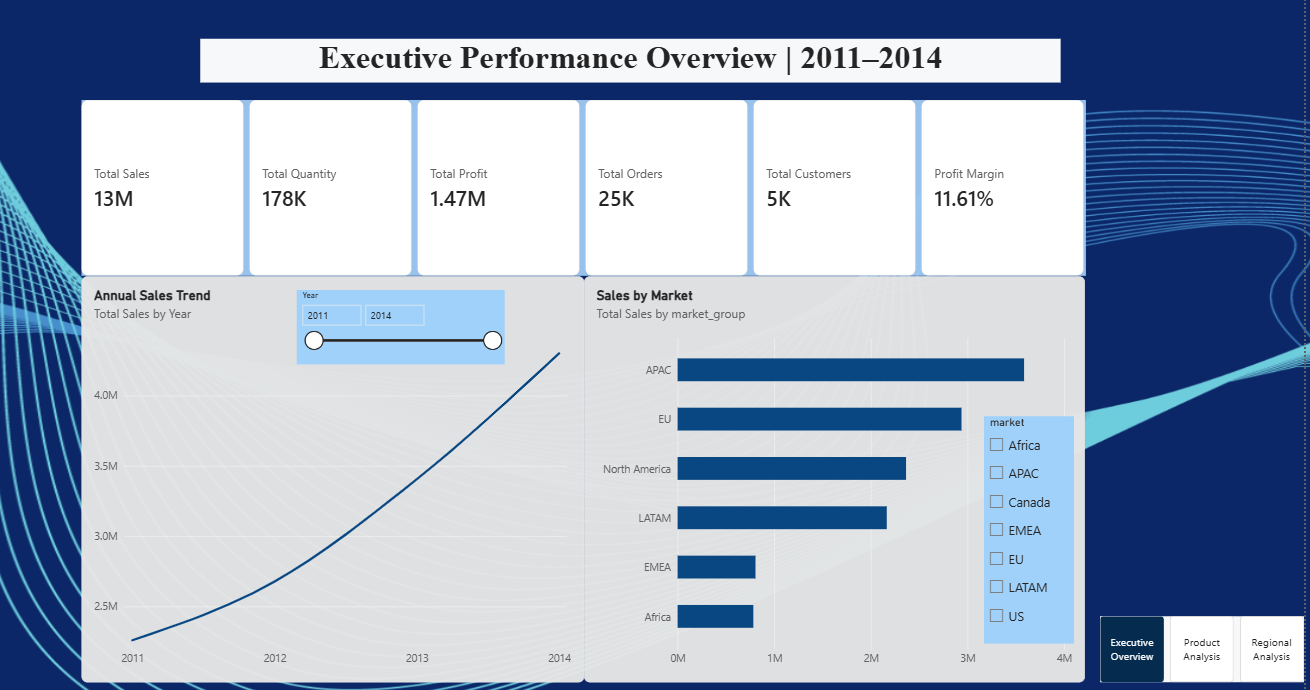

This screenshot's page, from the dashboard's own definition file:
{"tool":"powerbi","page":{"name":"Executive Overview","canvas":[1920,1080],"ordinal":0},"visuals":[{"type":"textbox","box":[163.1,0,1642.7,95.1],"z":0},{"type":"cardVisual","fields":{"Data":["KPIs.Total Sales","KPIs.Total Quantity","KPIs.Total Profit","KPIs.Total Orders","KPIs.Total Customers","KPIs.Profit Margin"]},"box":[289.3,287.4,1339,234.8],"z":1000},{"type":"lineChart","title":"Annual Sales Trend","fields":{"Category":["DateTable.Year"],"Y":["KPIs.Total Sales"]},"box":[289.3,522.3,669.9,555.3],"z":2000},{"type":"clusteredBarChart","title":"Sales by Market","fields":{"Category":["global_retail.market_group"],"Y":["KPIs.Total Sales"]},"box":[959.2,524.3,669.9,555.3],"z":3000},{"type":"slicer","fields":{"Values":["DateTable.Year"]},"box":[576.7,539.8,277.7,99],"z":4000},{"type":"slicer","fields":{"Values":["global_retail.market"]},"box":[1493.2,708.7,120.4,302.9],"z":4001},{"type":"textbox","box":[448.5,205.8,1147.6,58.3],"z":4002},{"type":"pageNavigator","box":[1648.5,1011.7,271.8,68],"z":4003}]}

Visuals, with their boxes on the page's 1920x1080 design canvas (x1, y1, x2, y2). These are canvas units, not pixel positions in the 1310x690 screenshot, which may show the page scaled, cropped or inside an application window:
textbox: {"x1": 163, "y1": 0, "x2": 1806, "y2": 95}
cardVisual - KPIs.Total Sales x KPIs.Total Quantity: {"x1": 289, "y1": 287, "x2": 1628, "y2": 522}
"Annual Sales Trend" lineChart: {"x1": 289, "y1": 522, "x2": 959, "y2": 1078}
"Sales by Market" clusteredBarChart: {"x1": 959, "y1": 524, "x2": 1629, "y2": 1080}
slicer - DateTable.Year: {"x1": 577, "y1": 540, "x2": 854, "y2": 639}
slicer - global_retail.market: {"x1": 1493, "y1": 709, "x2": 1614, "y2": 1012}
textbox: {"x1": 448, "y1": 206, "x2": 1596, "y2": 264}
pageNavigator: {"x1": 1648, "y1": 1012, "x2": 1920, "y2": 1080}
